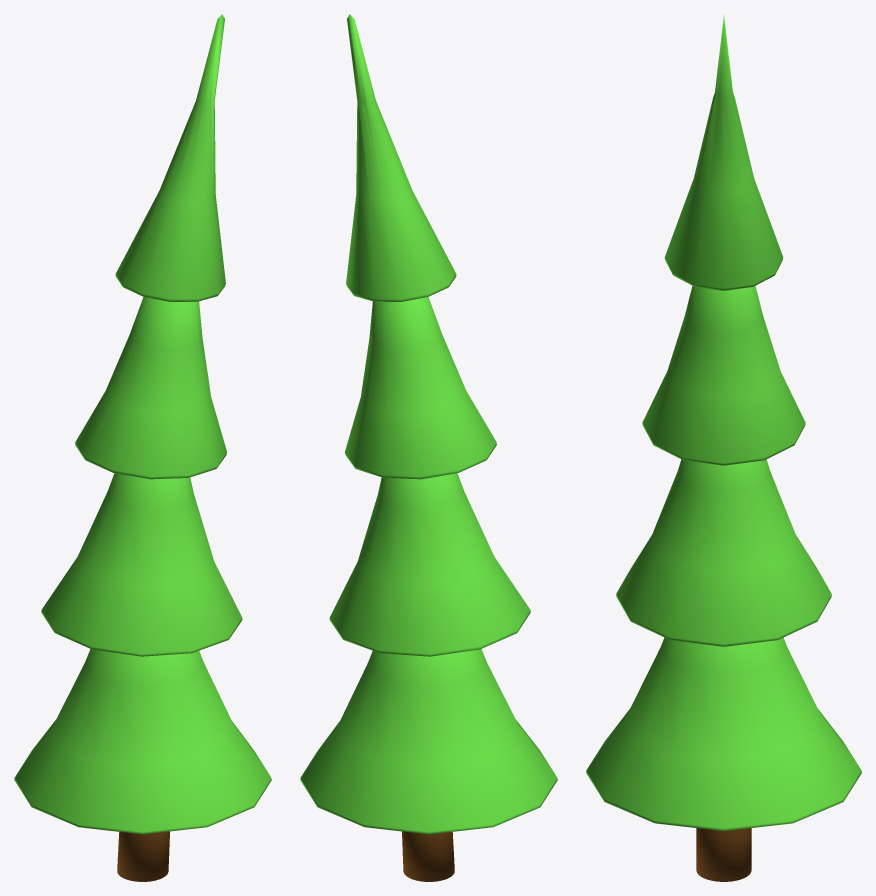
File: tree7.glb
The picture shows the model from 3 angles, left to right: view 1: azimuth 30°, elevation 25°; view 2: azimuth 150°, elevation 25°; view 3: azimuth 270°, elevation 25°; orthographic projection. The views are drawn at different scales.
Visible parts, largest first — view 1: tree7; view 2: tree7; view 3: tree7.
Boxes of the visible parts, x1=… form: tree7: x1=14, y1=14, x2=271, y2=881; tree7: x1=300, y1=14, x2=557, y2=881; tree7: x1=586, y1=15, x2=861, y2=881.
Bounding box in the file's own units: 2.99 × 10.73 × 2.99.
